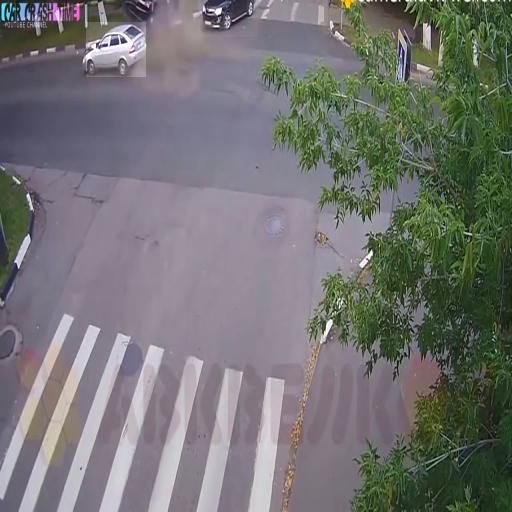小汽车: (86, 22, 146, 77), (198, 0, 258, 37)
